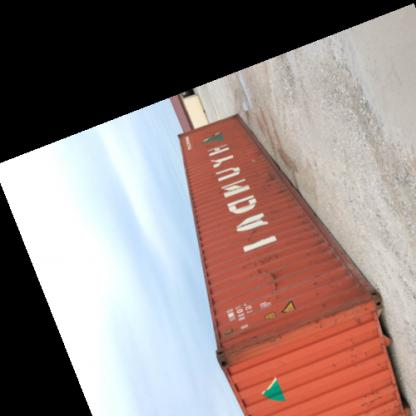Damage: (219, 310, 279, 363), (250, 242, 284, 300), (298, 270, 326, 334), (352, 385, 388, 414), (256, 168, 284, 200), (243, 220, 266, 240), (353, 312, 371, 328)
